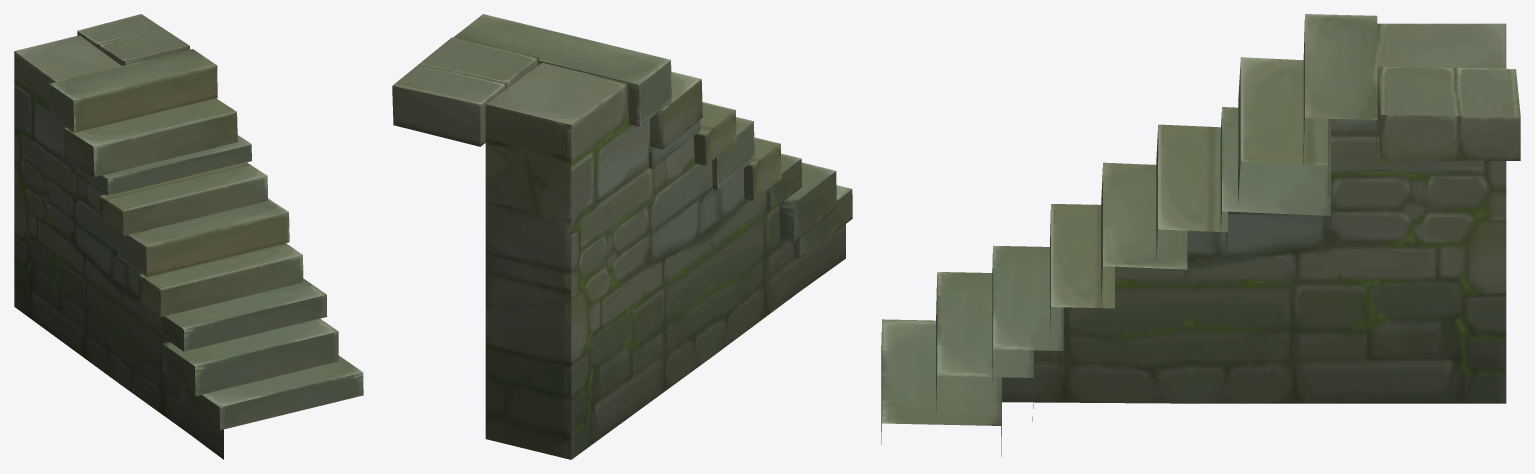
File: hebianwujian3.FBX
The picture shows the model from 3 angles, left to right: view 1: azimuth 30°, elevation 25°; view 2: azimuth 150°, elevation 25°; view 3: azimuth 270°, elevation 25°; orthographic projection. The views are drawn at different scales.
Visible parts, largest first — view 1: hebianwujian3; view 2: hebianwujian3; view 3: hebianwujian3.
Part boxes in pixels (box(x1,y1,x2,y2)): hebianwujian3: box(14, 14, 363, 459); hebianwujian3: box(392, 14, 852, 459); hebianwujian3: box(881, 14, 1520, 456).
Bounding box in the file's own units: 3.6 × 5.86 × 8.81.
